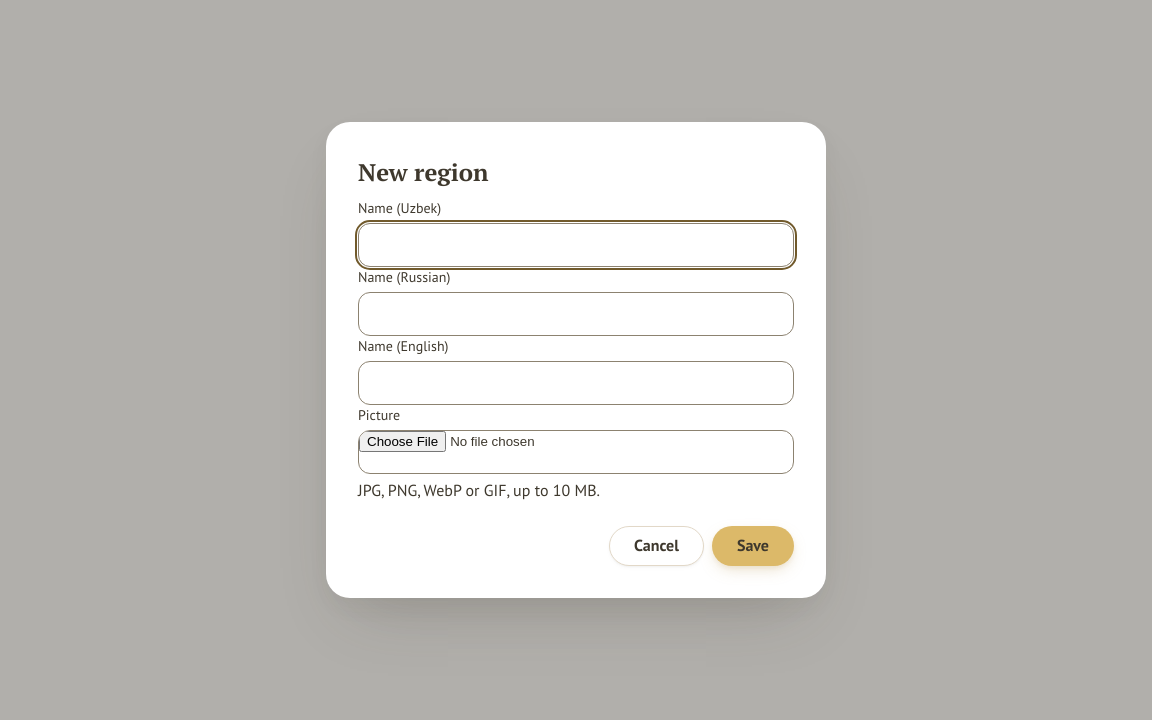
Scenario: GeographyRowDialog picture › a new region needs a picture too
Type "Turkiya" into the field labelled "Name (Uzbek)" at (576, 245), box 358,223 -> 794,267
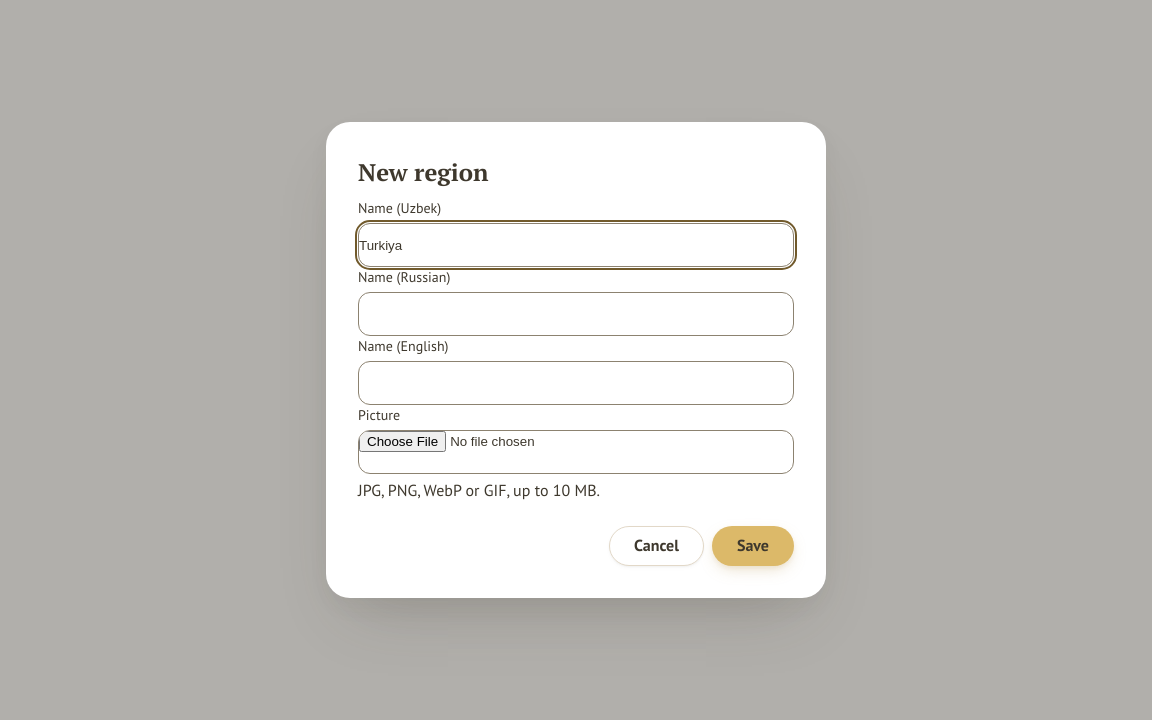
Type "Турция" into the field labelled "Name (Russian)" at (576, 314), box 358,292 -> 794,336
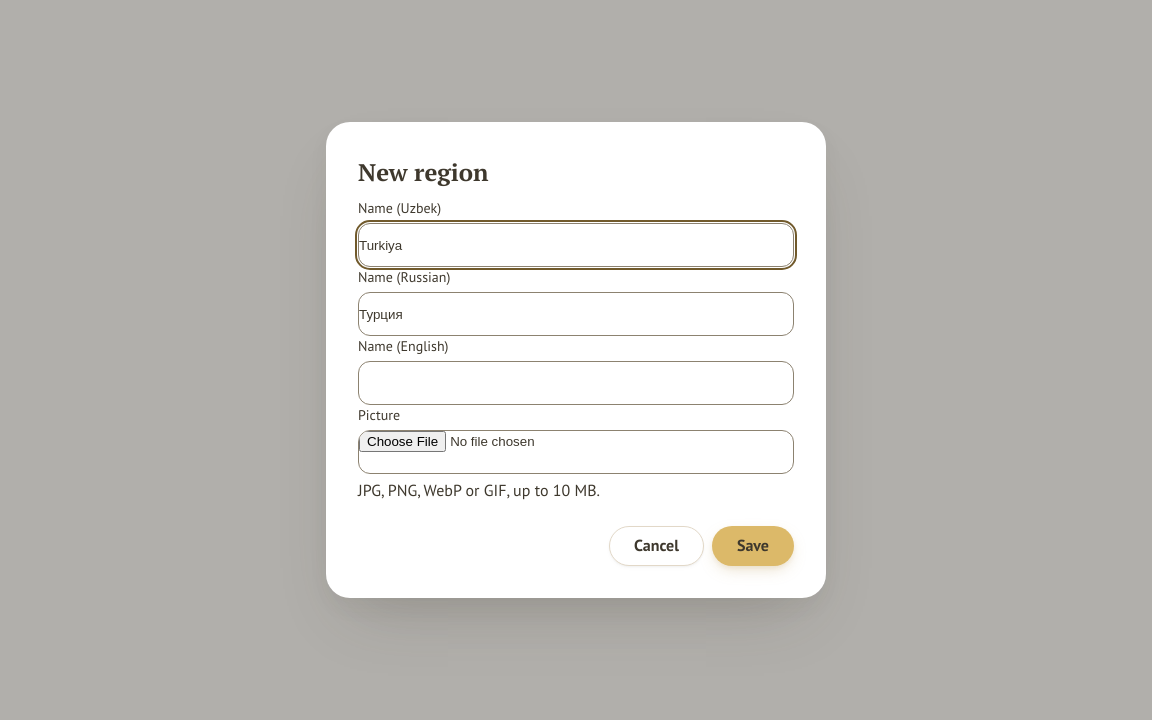
Type "Turkey" into the field labelled "Name (English)" at (576, 383), box 358,361 -> 794,405
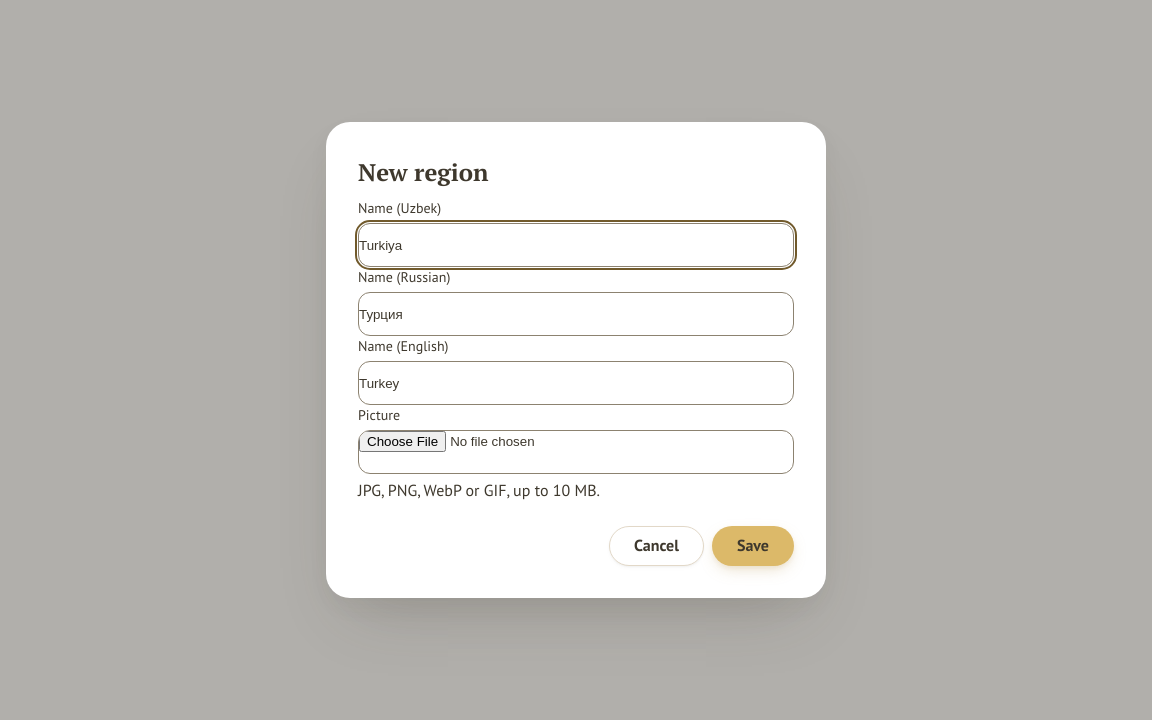
Click the button "Save" at (753, 546), box 712,526 -> 794,566
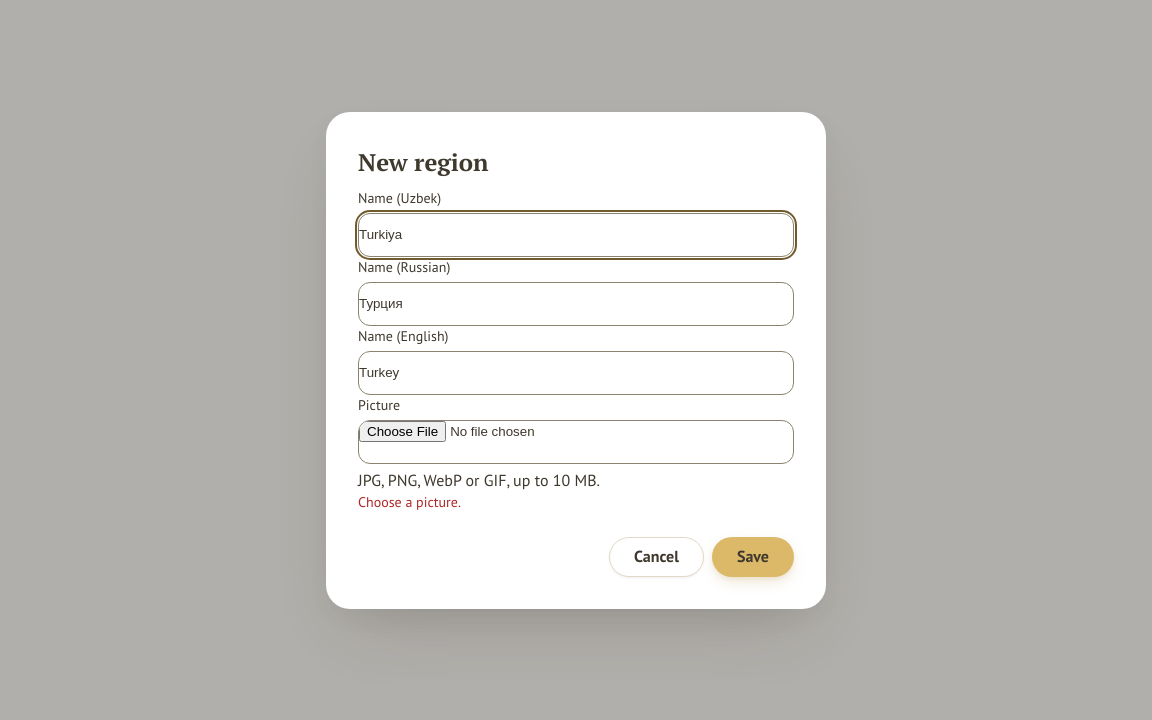
expect the message reads "Choose a picture.": met, box 358,492 -> 461,510
